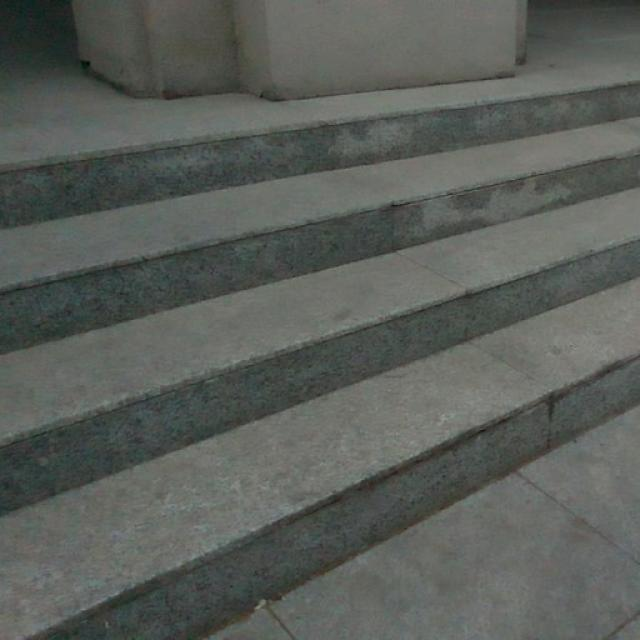stair: (8, 93, 640, 562)
